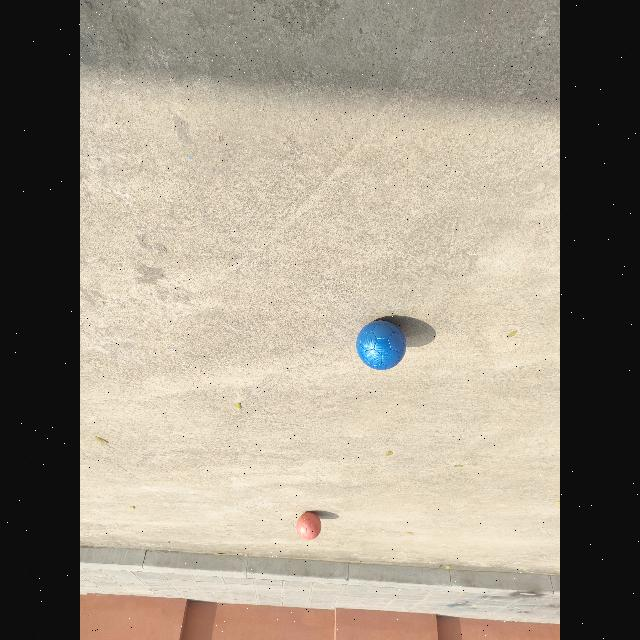B: (357, 320, 406, 370)
R: (297, 512, 321, 539)
